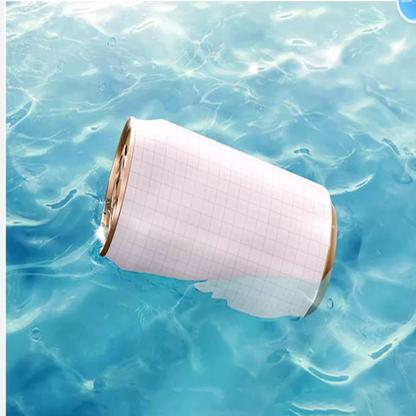can: (89, 112, 342, 326)
